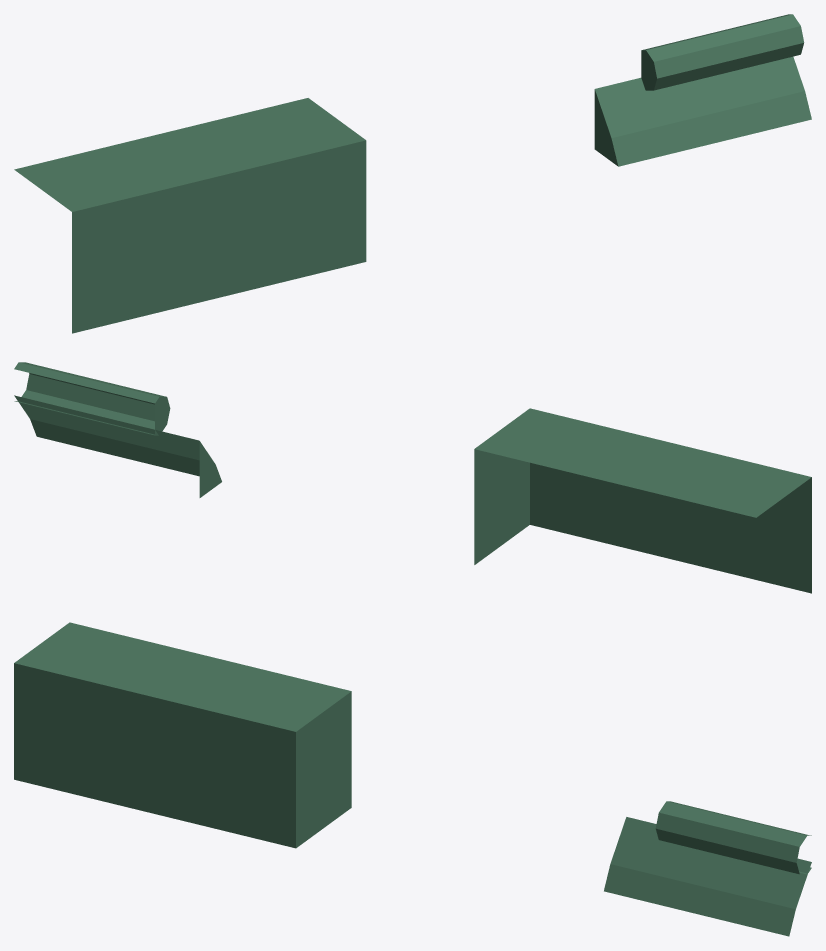
Rendered from cell_16.obj.
3 views of the same model, one above another, from view 1: azimuth 30°, elevation 25°; view 2: azimuth 150°, elevation 25°; view 3: azimuth 330°, elevation 25° (orthographic). The views are drawn at different scales.
Bounding box in the file's own units: 1 × 0.15 × 0.13.
